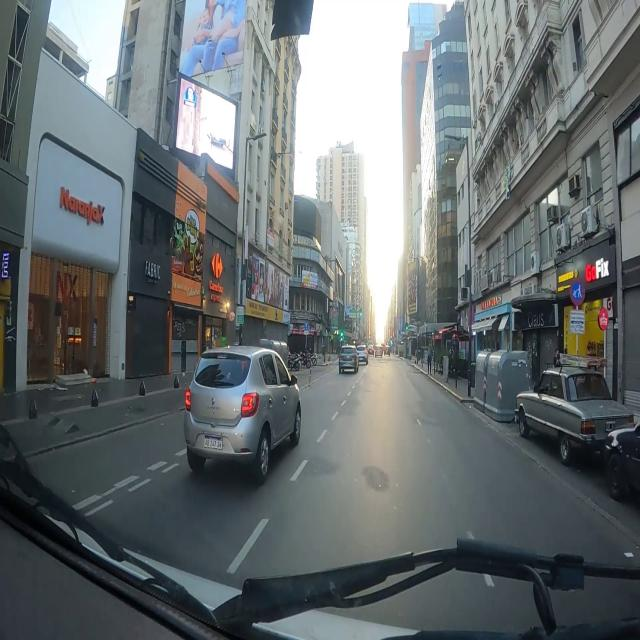car: (184, 346, 301, 482), (516, 366, 634, 464), (605, 424, 639, 500), (339, 345, 358, 373), (357, 345, 368, 365), (375, 345, 382, 357)
